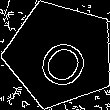O_NE: (27, 21, 94, 88)
